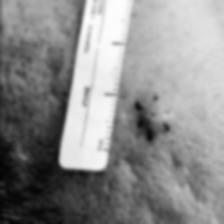Unclassified: (142, 108, 164, 128)
